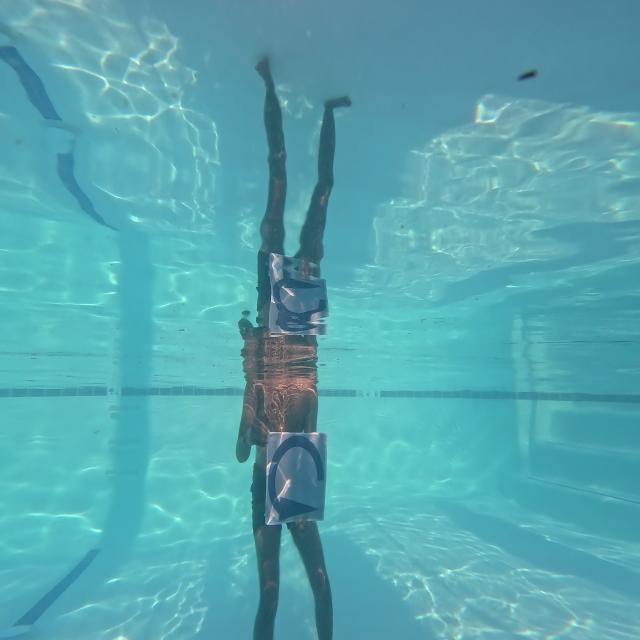blue_side: (267, 427, 328, 526)
